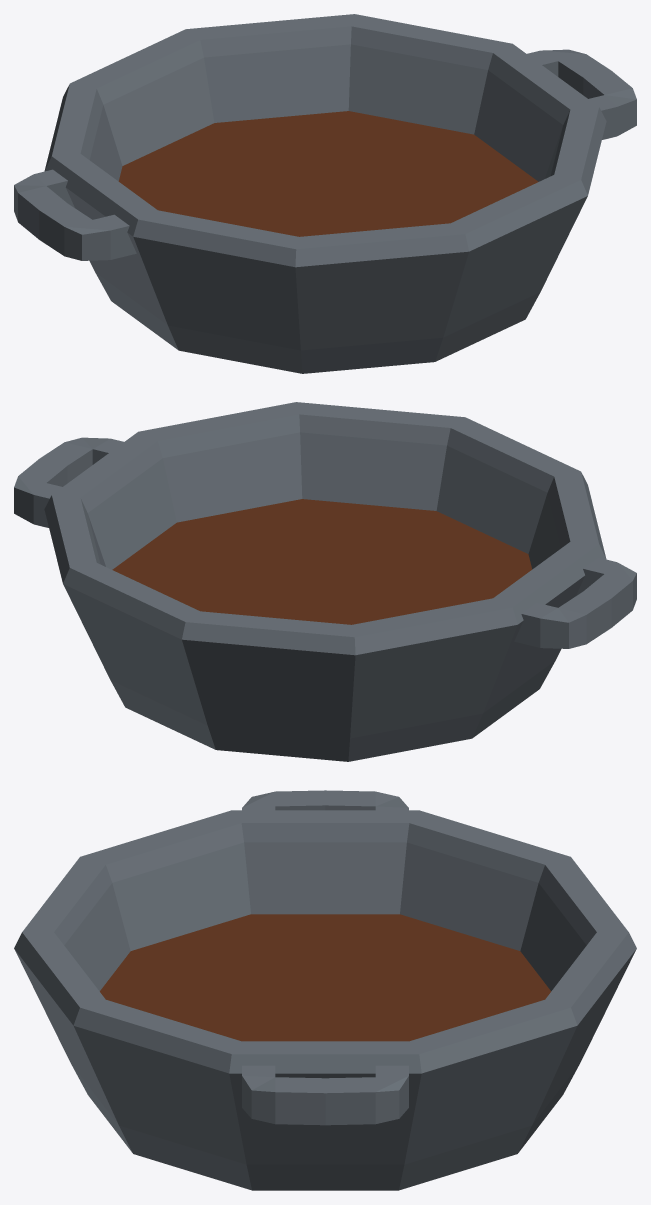
The model's file is CookingPot2_Soup.obj.
The picture shows the model from 3 angles, top to bottom: view 1: azimuth 30°, elevation 25°; view 2: azimuth 150°, elevation 25°; view 3: azimuth 270°, elevation 25°; orthographic projection. The views are drawn at different scales.
Visible parts, largest first — view 1: CookingPot2_Soup_Grey, CookingPot2_Soup_Brown; view 2: CookingPot2_Soup_Grey, CookingPot2_Soup_Brown; view 3: CookingPot2_Soup_Grey, CookingPot2_Soup_Brown.
Part boxes in pixels (x1,y1,x2,y2): CookingPot2_Soup_Grey: (14, 14, 636, 373); CookingPot2_Soup_Brown: (118, 111, 538, 236); CookingPot2_Soup_Grey: (14, 402, 636, 761); CookingPot2_Soup_Brown: (112, 499, 532, 624); CookingPot2_Soup_Grey: (14, 790, 636, 1190); CookingPot2_Soup_Brown: (100, 914, 550, 1041).
Bounding box in the file's own units: 2.29 × 0.6224 × 1.99.
